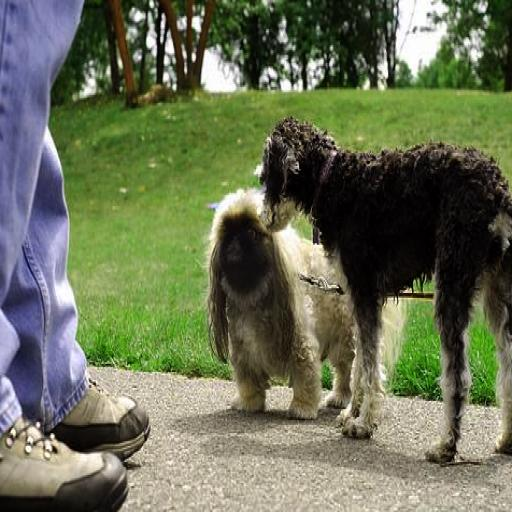dog_face: (206, 187, 281, 290)
